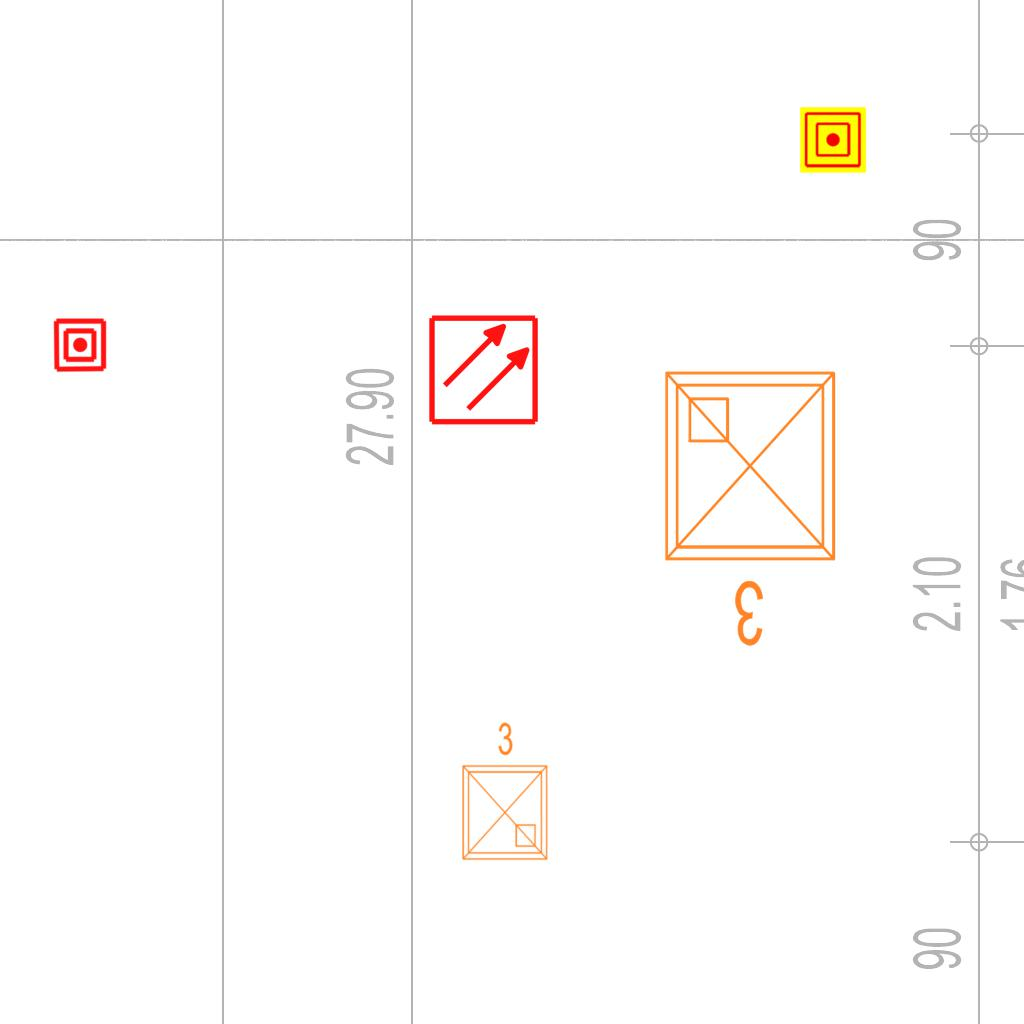Einbaudownlights_LED_Konferenzraeume: (650, 357, 858, 657), (451, 717, 555, 867)
NAM-Nichtautomatischer_Melder: (800, 107, 866, 173), (52, 317, 108, 373)
RMO_Rauchmelder_optischer: (427, 313, 540, 426)
